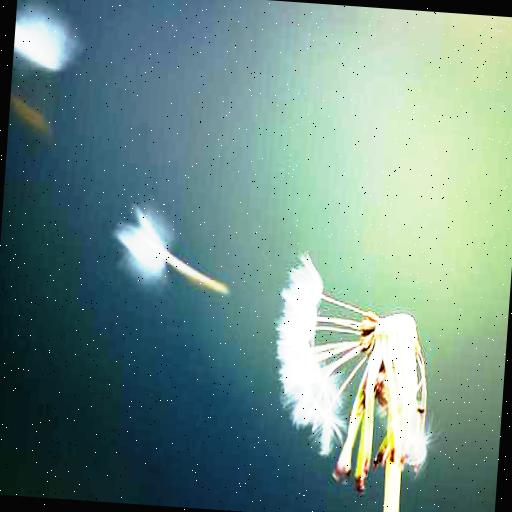dandelion: (264, 262, 443, 476)
